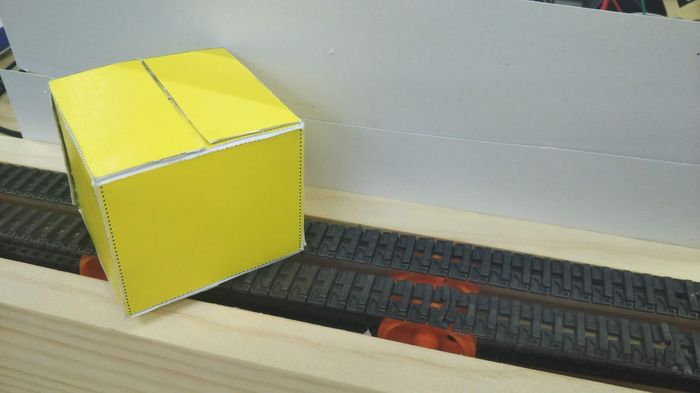box4: (43, 43, 309, 319)
